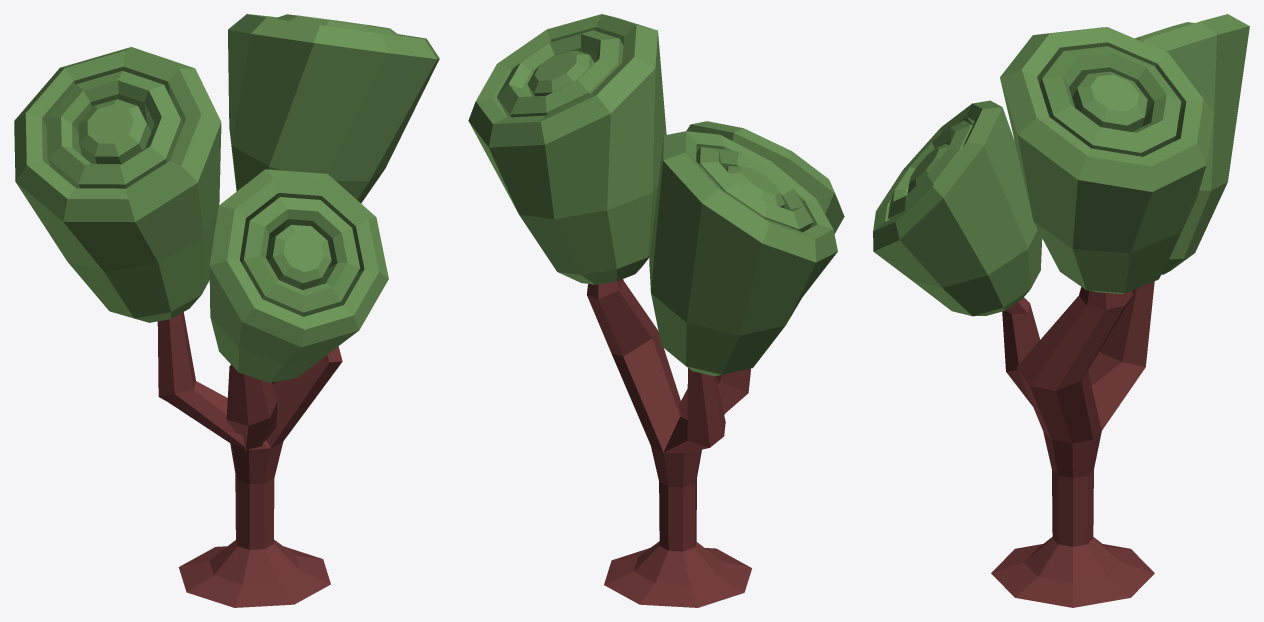
Rendered from GreenTree.004.fbx.
3 views of the same model, side by side, from view 1: azimuth 30°, elevation 25°; view 2: azimuth 150°, elevation 25°; view 3: azimuth 270°, elevation 25° (orthographic). The views are drawn at different scales.
Parts seen in each view (by area): view 1: GreenTree.004; view 2: GreenTree.004; view 3: GreenTree.004.
Part boxes in pixels (left/top/right/bottom): GreenTree.004: left=14, top=14, right=439, bottom=607; GreenTree.004: left=468, top=14, right=844, bottom=607; GreenTree.004: left=873, top=14, right=1249, bottom=607.
Size of the model in its own units: 24980 by 34450 by 20746.
